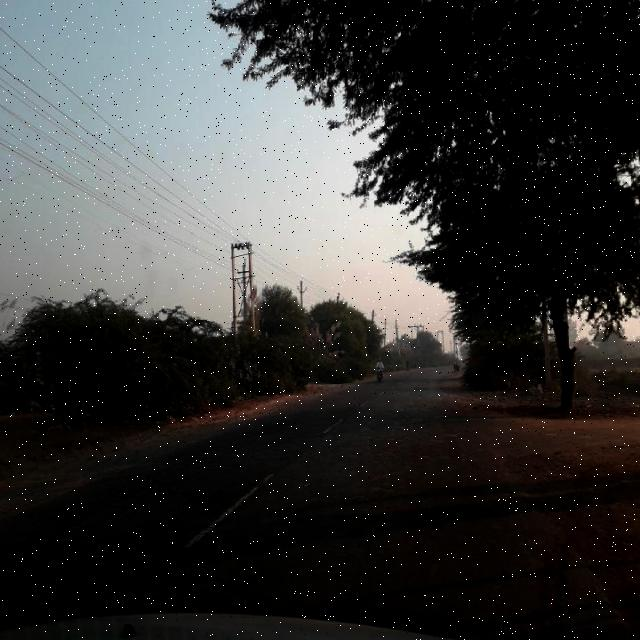D44: (181, 458, 295, 548)
